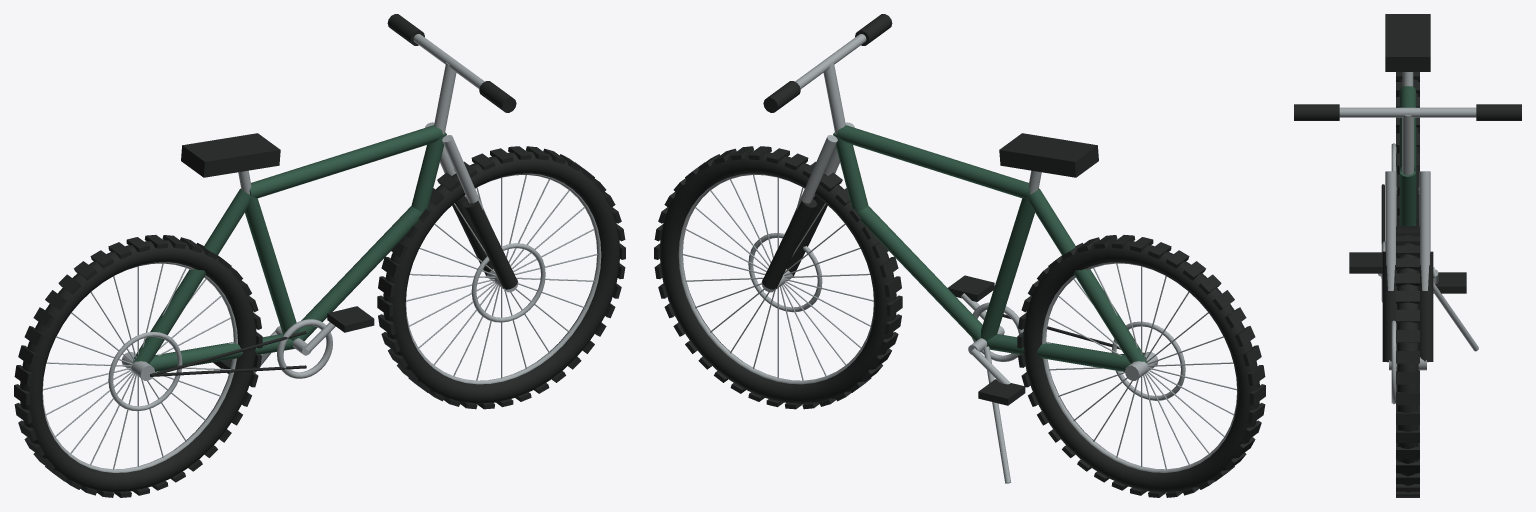
File: mountain-bike.glb
The picture shows the model from 3 angles, left to right: view 1: azimuth 30°, elevation 25°; view 2: azimuth 150°, elevation 25°; view 3: azimuth 270°, elevation 25°; orthographic projection.
Visible parts, largest first — view 1: mountain-bicycle; view 2: mountain-bicycle; view 3: mountain-bicycle.
Part boxes in pixels (bbox=[...]): mountain-bicycle: bbox=[14, 14, 625, 497]; mountain-bicycle: bbox=[654, 14, 1265, 497]; mountain-bicycle: bbox=[1294, 14, 1521, 497].
Size of the model in its own units: 1.82 by 1.03 by 0.6.
